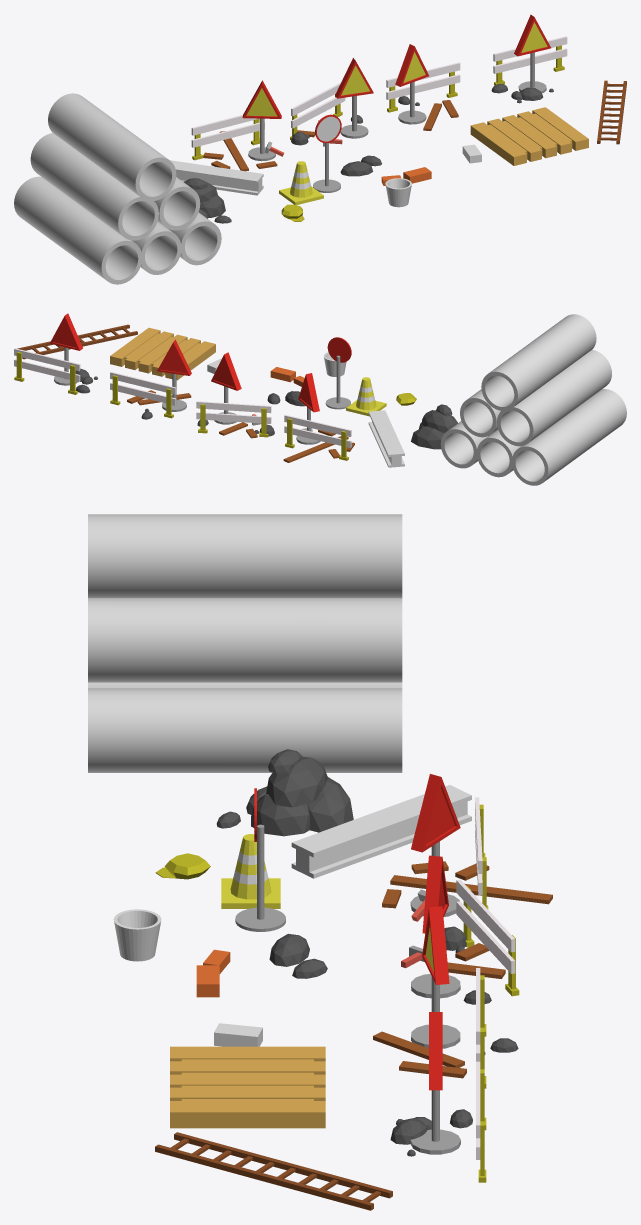
File: todo.fbx
3 renders of one model, top to bottom at view 1: azimuth 30°, elevation 25°; view 2: azimuth 150°, elevation 25°; view 3: azimuth 270°, elevation 25°, orthographic. The views are drawn at different scales.
Parts seen in each view (by area): view 1: Cylinder.007, Cylinder.004, Cylinder.005, Cube.025, Cube.022, Cylinder.002, Cylinder.003, Cylinder.006, señal.003, señal.001, señal.002, señal (+13 smaller); view 2: Cylinder.007, Cylinder.004, Cylinder.005, Cube.025, Cylinder.002, Cylinder.003, Cylinder.006, Cube.022, señal.002, Cylinder, escalera, señal (+20 smaller); view 3: Cylinder.006, Cylinder.007, Cylinder.002, Cube.025, Cube.022, escalera, señal.001, señal.002, Cube.027, señal, Cylinder.003, Icosphere.010 (+11 smaller).
Part boxes in pixels (left/top/right/bottom): Cylinder.007: left=48, top=93, right=176, bottom=200; Cylinder.004: left=14, top=176, right=142, bottom=284; Cylinder.005: left=30, top=133, right=158, bottom=240; Cube.025: left=470, top=107, right=588, bottom=165; Cube.022: left=170, top=160, right=263, bottom=195; Cylinder.002: left=169, top=212, right=221, bottom=265; Cylinder.003: left=132, top=222, right=181, bottom=274; Cylinder.006: left=154, top=177, right=200, bottom=230; señal.003: left=335, top=58, right=373, bottom=138; señal.001: left=242, top=80, right=281, bottom=161; señal.002: left=395, top=44, right=428, bottom=124; señal: left=514, top=14, right=550, bottom=93; Cylinder.007: left=481, top=314, right=596, bottom=410; Cylinder.004: left=512, top=389, right=626, bottom=485; Cylinder.005: left=497, top=349, right=611, bottom=446; Cube.025: left=110, top=327, right=215, bottom=380; Cylinder.002: left=440, top=421, right=487, bottom=468; Cylinder.003: left=476, top=429, right=521, bottom=477; Cylinder.006: left=460, top=389, right=500, bottom=437; Cube.022: left=368, top=410, right=404, bottom=467; señal.002: left=157, top=339, right=191, bottom=411; Cylinder: left=325, top=337, right=351, bottom=409; escalera: left=17, top=324, right=137, bottom=359; señal: left=49, top=313, right=82, bottom=385; Cylinder.006: left=88, top=598, right=402, bottom=682; Cylinder.007: left=88, top=514, right=402, bottom=597; Cylinder.002: left=88, top=688, right=402, bottom=772; Cube.025: left=170, top=1046, right=325, bottom=1128; Cube.022: left=291, top=785, right=471, bottom=878; escalera: left=155, top=1132, right=392, bottom=1210; señal.001: left=410, top=774, right=460, bottom=916; señal.002: left=411, top=906, right=460, bottom=1048; Cube.027: left=221, top=834, right=280, bottom=908; señal: left=410, top=1012, right=460, bottom=1154; Cylinder.003: left=88, top=682, right=402, bottom=688; Icosphere.010: left=266, top=756, right=327, bottom=807.
Bounding box in the file's own units: 2956 × 553 × 1098.
